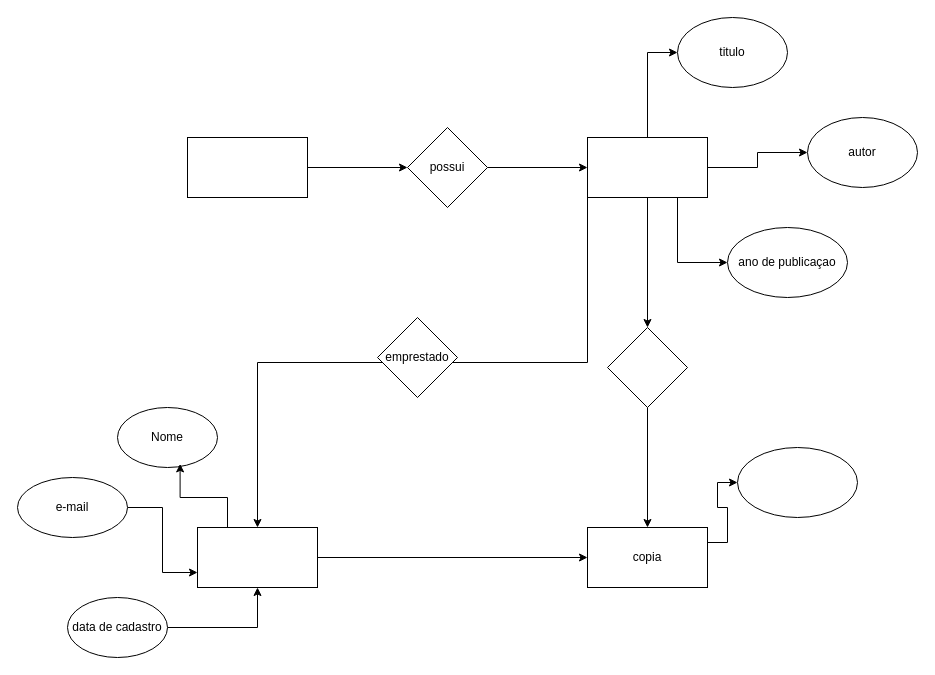
Image size: 935x675. Some labels were removed from this diagram. Each missing label, with the centre of its shape:
"Biblioteca" belongs at point (247, 167).
"Livro" belongs at point (647, 167).
"numero unico" belongs at point (797, 482).
"possuem" belongs at point (647, 367).
"usuario" belongs at point (257, 557).
